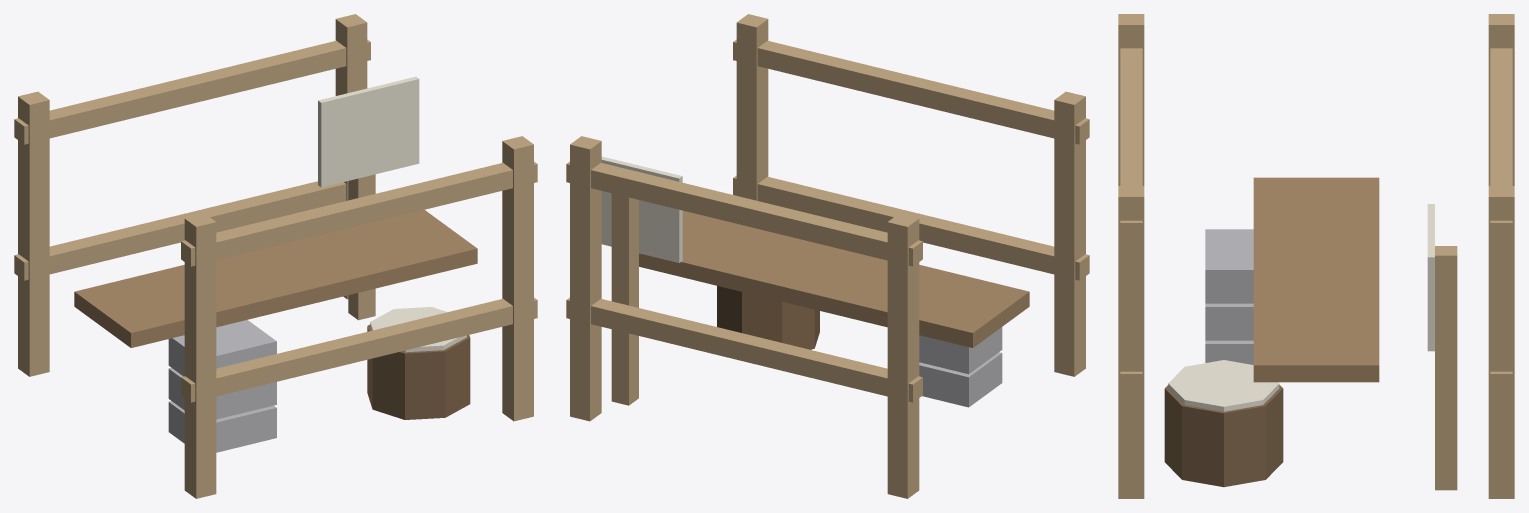
Rendered from construction.glb.
The picture shows the model from 3 angles, left to right: view 1: azimuth 30°, elevation 25°; view 2: azimuth 150°, elevation 25°; view 3: azimuth 270°, elevation 25°; orthographic projection. The views are drawn at different scales.
Visible parts, largest first — view 1: ScaffoldPost-0.55-0.5; view 2: ScaffoldPost-0.55-0.5; view 3: ScaffoldPost-0.55-0.5.
Part boxes in pixels (x1=…): ScaffoldPost-0.55-0.5: x1=14, y1=14, x2=537, y2=498; ScaffoldPost-0.55-0.5: x1=566, y1=14, x2=1089, y2=498; ScaffoldPost-0.55-0.5: x1=1118, y1=14, x2=1514, y2=498.
Bounding box in the file's own units: 1.27 × 0.9 × 1.07.
